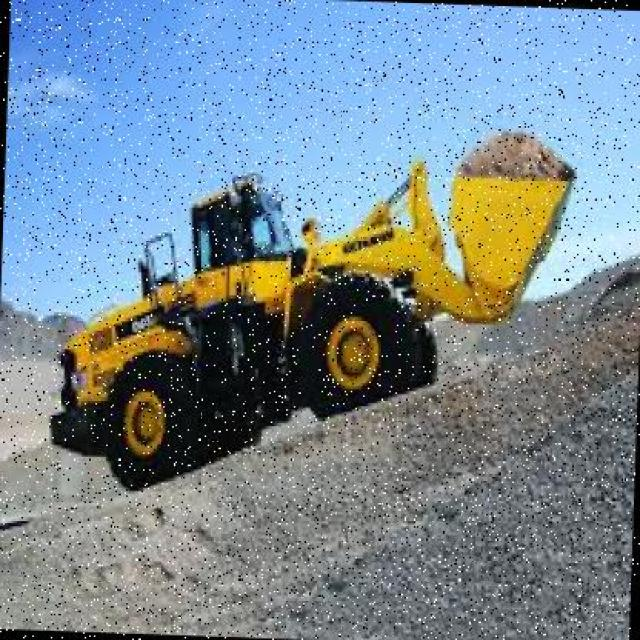buldozerpayloadergrader: (46, 104, 579, 508)
